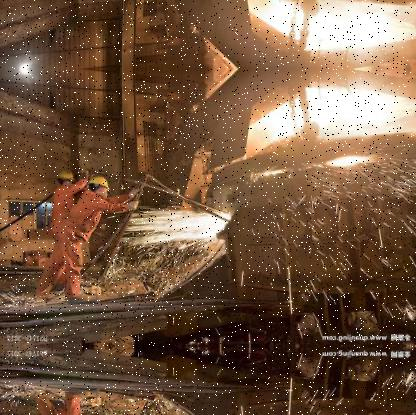helmet: (86, 176, 115, 199), (58, 169, 78, 189)
